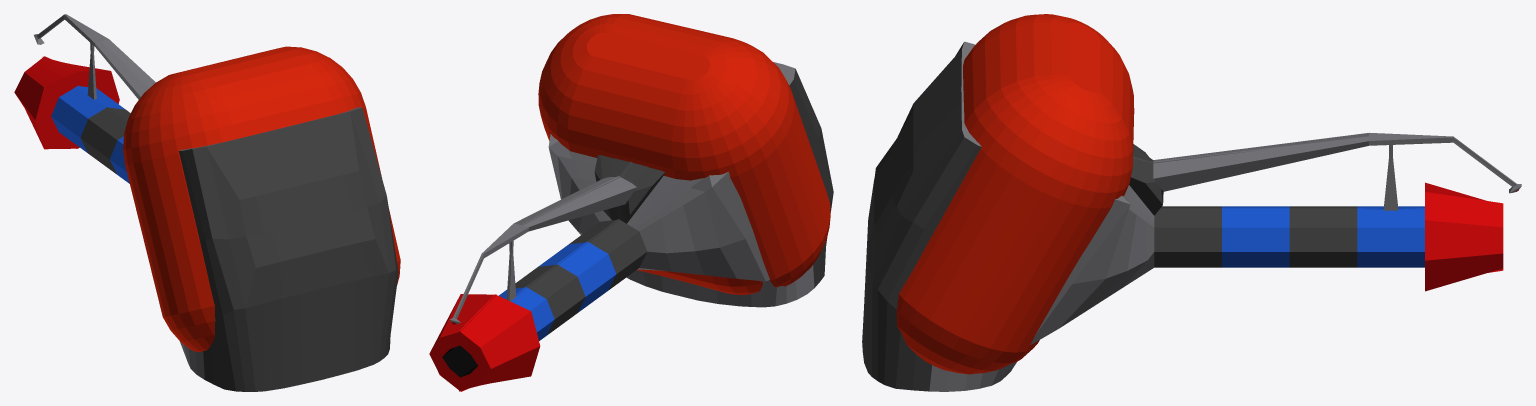
Rendered from LanceFlame.fbx.
3 renders of one model, left to right at view 1: azimuth 30°, elevation 25°; view 2: azimuth 150°, elevation 25°; view 3: azimuth 270°, elevation 25°, orthographic. The views are drawn at different scales.
Parts seen in each view (by area): view 1: Cube, Sphere; view 2: Sphere, Cube; view 3: Cube, Sphere.
Boxes of the visible parts, <box> form: Cube: <box>14,14,398,391</box>; Sphere: <box>123,46,400,351</box>; Sphere: <box>538,14,830,294</box>; Cube: <box>429,62,833,391</box>; Cube: <box>862,41,1521,391</box>; Sphere: <box>896,14,1134,374</box>.
Size of the model in its own units: 175 by 192 by 387.
